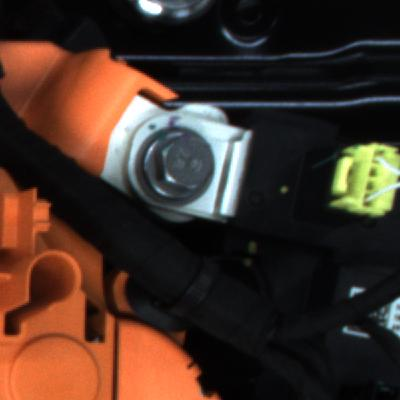nut_b: (127, 122, 226, 209)
